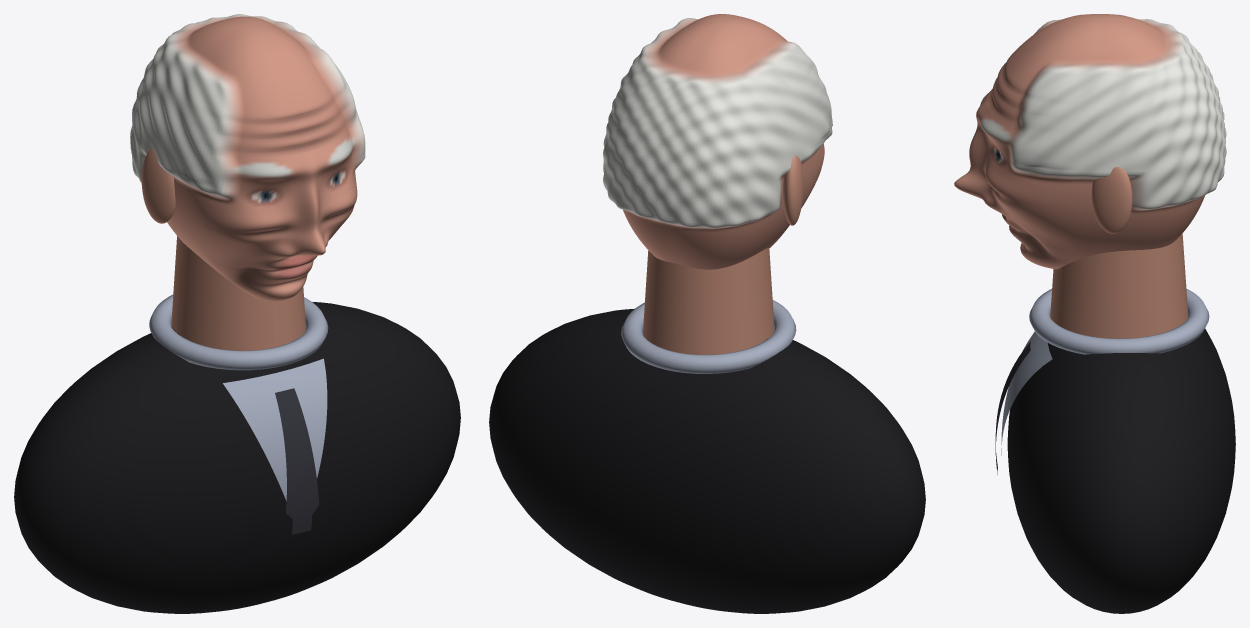
The picture shows the model from 3 angles, left to right: view 1: azimuth 30°, elevation 25°; view 2: azimuth 150°, elevation 25°; view 3: azimuth 270°, elevation 25°; orthographic projection. The views are drawn at different scales.
Visible parts, largest first — view 1: head; view 2: head; view 3: head.
Boxes of the visible parts, <box> form: head: <box>14,14,460,613</box>; head: <box>489,14,925,613</box>; head: <box>954,14,1235,613</box>.
Bounding box in the file's own units: 0.4 × 0.515 × 0.2344.
